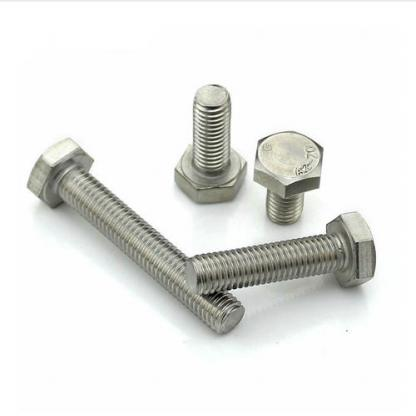FOD: (20, 135, 245, 336), (182, 207, 378, 298), (170, 80, 250, 204), (251, 129, 323, 224)
